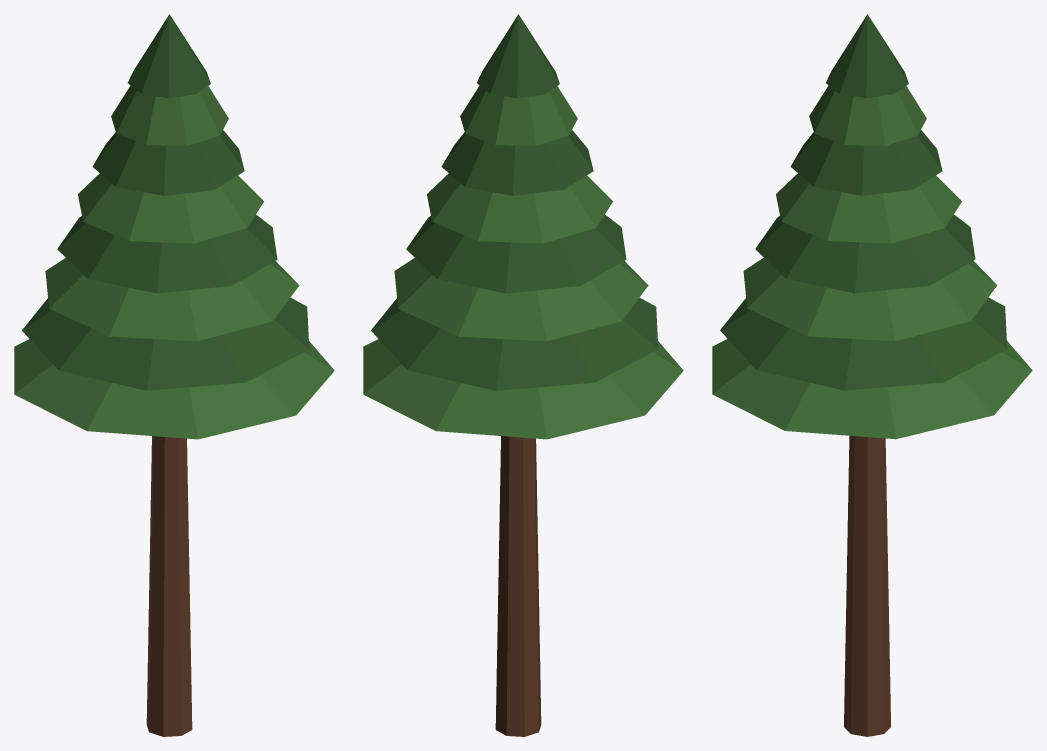
Rendered from tree_pine_large.glb.
The picture shows the model from 3 angles, left to right: view 1: azimuth 30°, elevation 25°; view 2: azimuth 150°, elevation 25°; view 3: azimuth 270°, elevation 25°; orthographic projection.
Visible parts, largest first — view 1: tree_pine_large; view 2: tree_pine_large; view 3: tree_pine_large.
Boxes of the visible parts, <box> form: tree_pine_large: <box>14,14,334,736</box>; tree_pine_large: <box>363,14,683,736</box>; tree_pine_large: <box>712,14,1032,736</box>.
Size of the model in its own units: 7.45 by 18 by 7.33.
